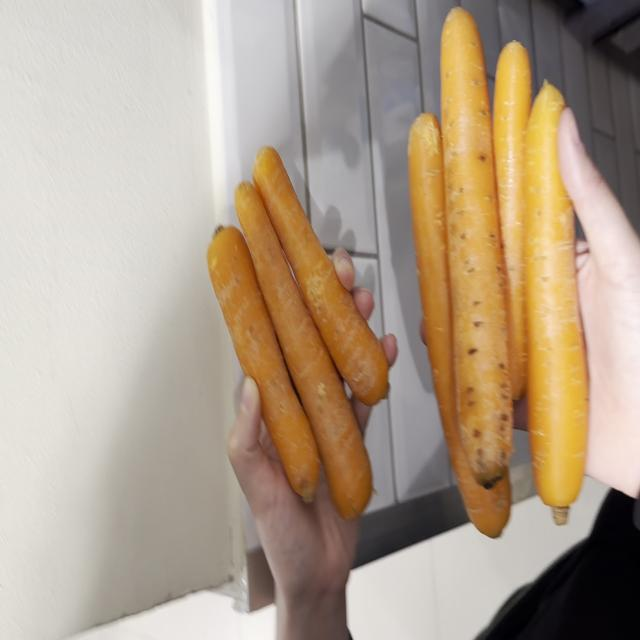carrot: (235, 181, 372, 519), (408, 112, 511, 536), (254, 146, 389, 406), (440, 7, 512, 485), (208, 227, 320, 501), (525, 82, 589, 508), (492, 42, 531, 399)
